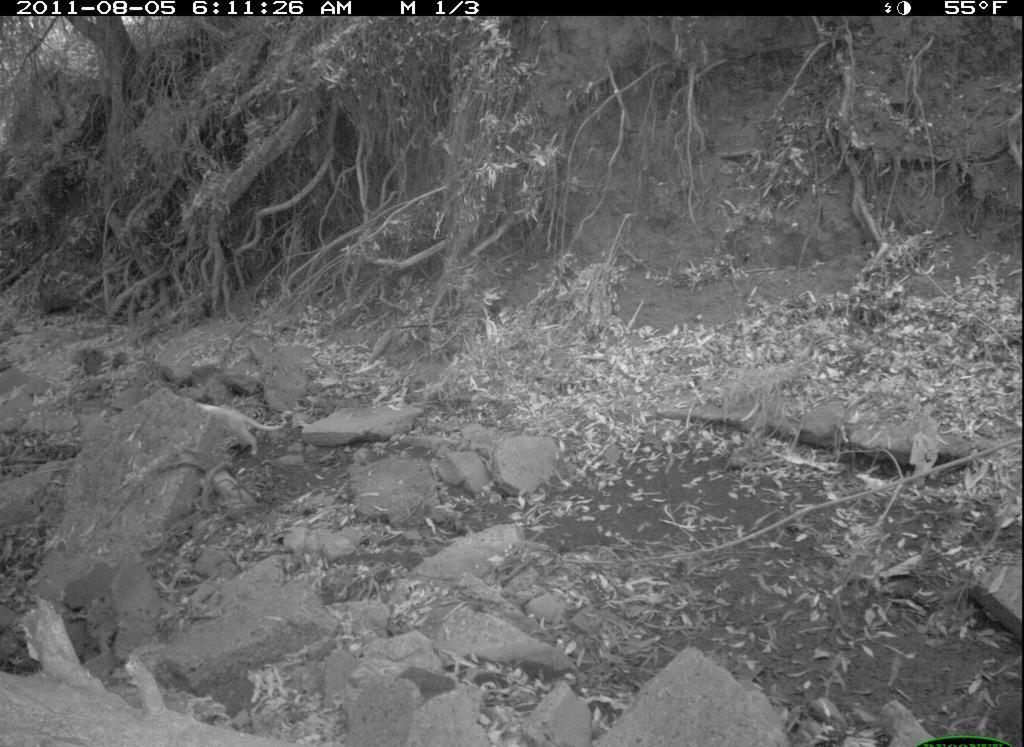cat: (187, 400, 285, 459)
